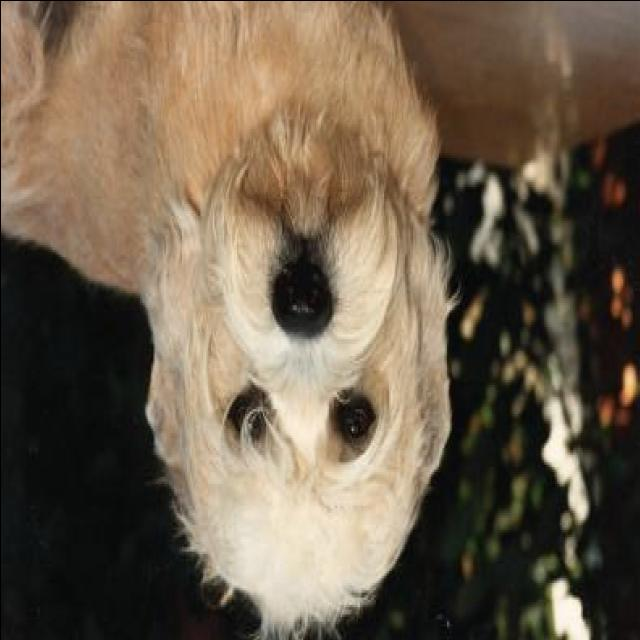dandie_dinmont: (0, 2, 454, 640)
